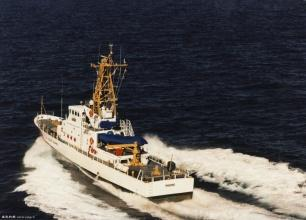otherboat: (33, 101, 204, 196)
